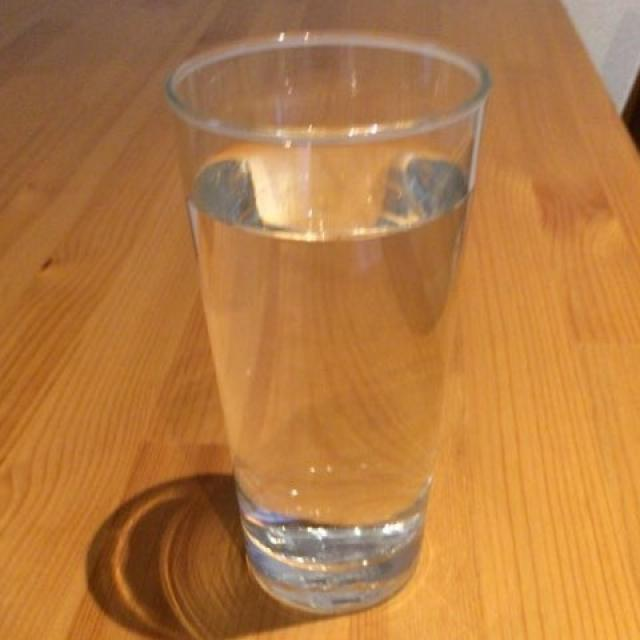water: (182, 152, 471, 576)
